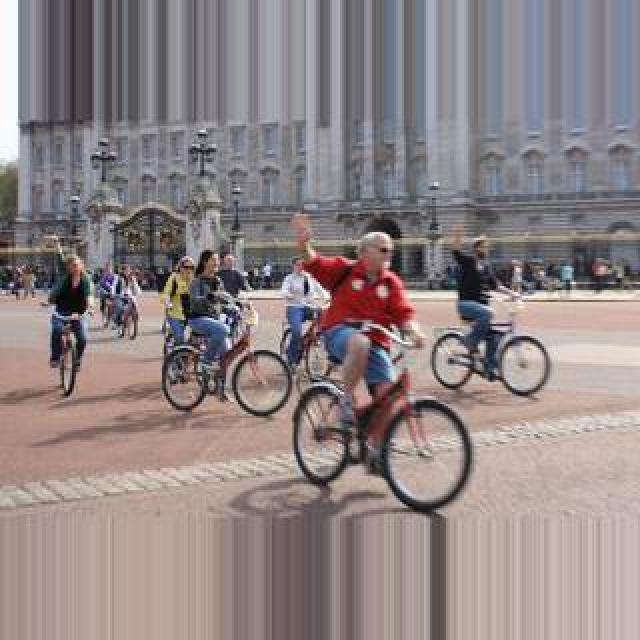MC-Bike: (314, 226, 420, 438), (444, 230, 506, 382), (186, 252, 238, 382), (44, 254, 96, 368), (280, 258, 324, 368), (158, 256, 196, 364)
Person: (292, 322, 472, 512), (160, 300, 292, 416), (432, 304, 552, 396), (54, 310, 88, 398)
